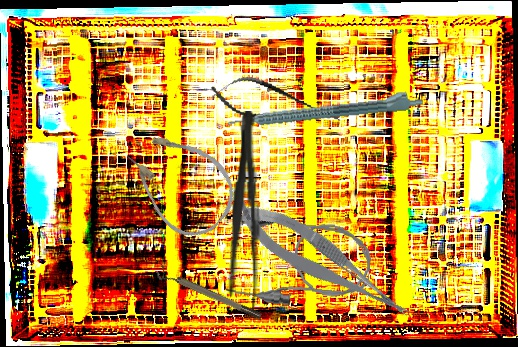Cannula: (111, 113, 250, 250), (224, 211, 375, 314)
Dressing Forceps: (226, 110, 264, 312)
Fixation Ring: (154, 263, 263, 326)
Handpiece: (226, 87, 424, 130)
Micro Scissor: (227, 183, 416, 342), (205, 67, 347, 141)
